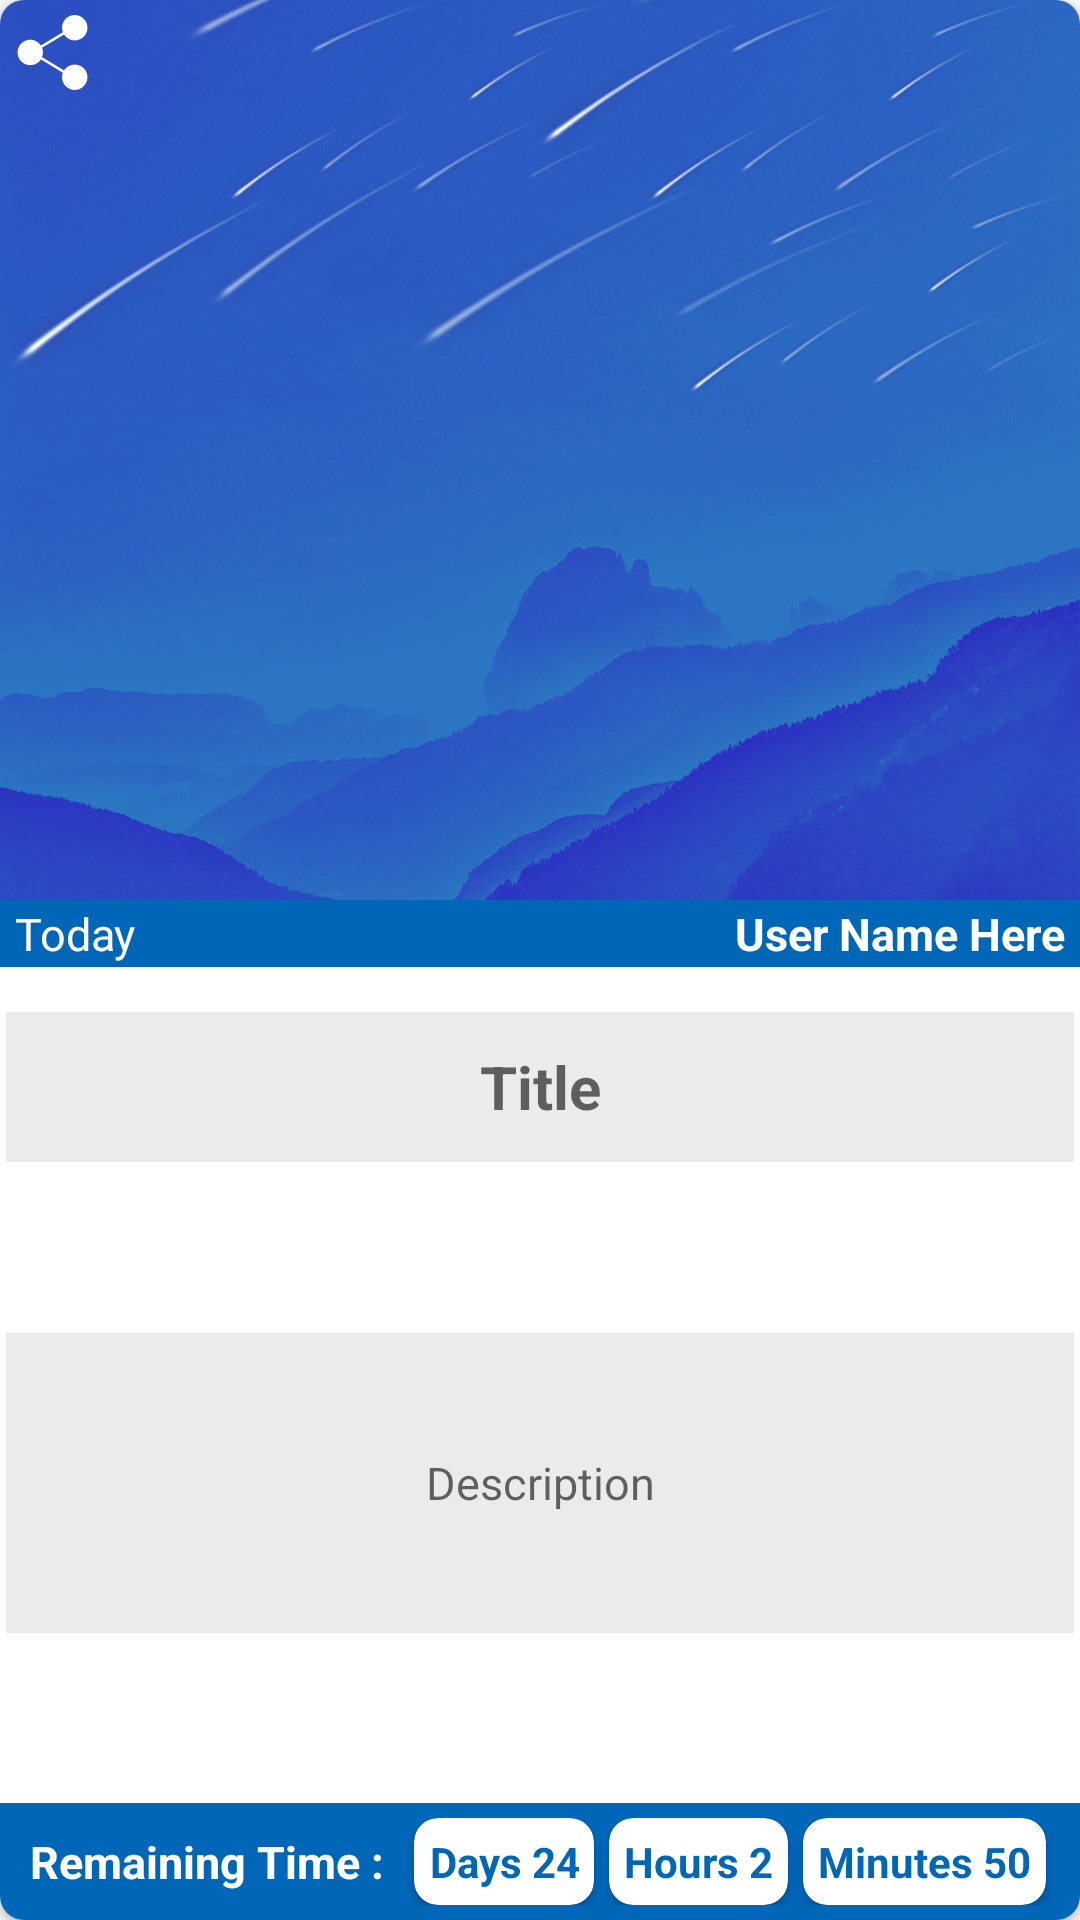

Icon bounding boxes for this 1080px×1920px phone screenshot, format (x1, y1, x2, y2):
share: (17, 15, 88, 90)
